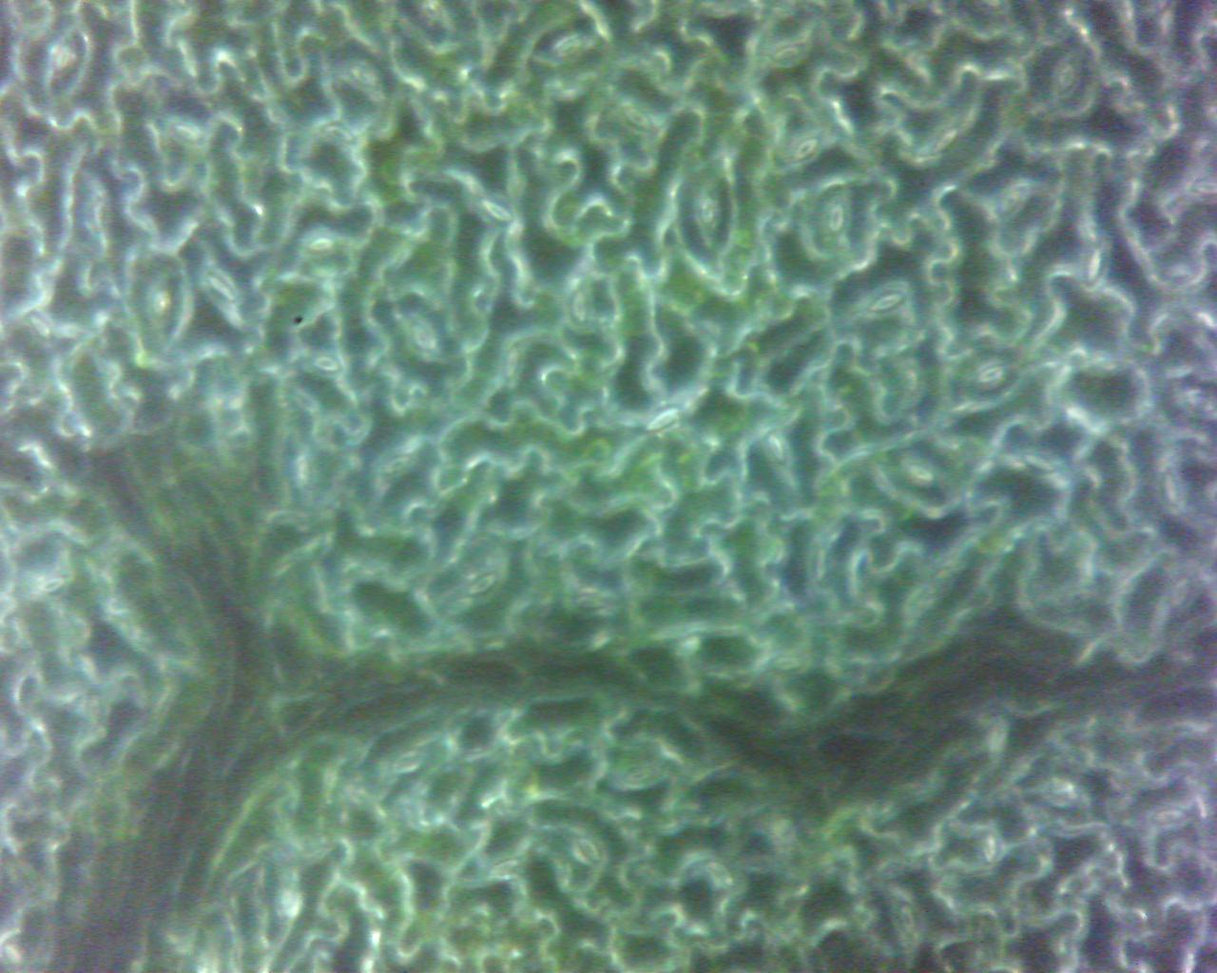stomata: (1083, 243, 1108, 290), (481, 198, 515, 223), (1160, 468, 1180, 510), (645, 409, 683, 431), (567, 289, 590, 325), (207, 273, 236, 301), (982, 831, 1005, 866), (320, 121, 356, 143), (52, 42, 75, 76), (999, 188, 1025, 218), (413, 322, 438, 353), (897, 900, 919, 935), (930, 127, 958, 154), (151, 286, 171, 323), (1057, 61, 1078, 96), (488, 857, 521, 879), (1185, 392, 1216, 415), (383, 455, 415, 477), (767, 655, 808, 672), (828, 203, 849, 236), (698, 195, 719, 228), (305, 235, 338, 256), (811, 545, 830, 581), (868, 293, 904, 312), (905, 463, 937, 484), (627, 109, 655, 133), (1024, 453, 1057, 473), (623, 766, 656, 786), (575, 592, 608, 612), (313, 353, 343, 375), (504, 344, 522, 380), (771, 46, 803, 66), (767, 433, 787, 465), (794, 139, 820, 163), (30, 313, 53, 340), (38, 576, 69, 596), (1172, 576, 1192, 607), (468, 572, 496, 594), (172, 124, 206, 142), (1151, 807, 1186, 824), (350, 68, 379, 88), (711, 864, 735, 887), (978, 366, 1005, 385), (557, 38, 584, 57), (579, 840, 601, 862)
